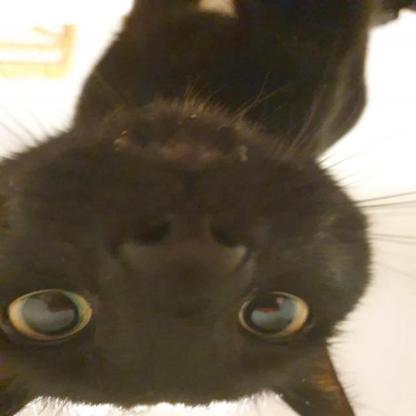cat: (0, 11, 363, 416)
